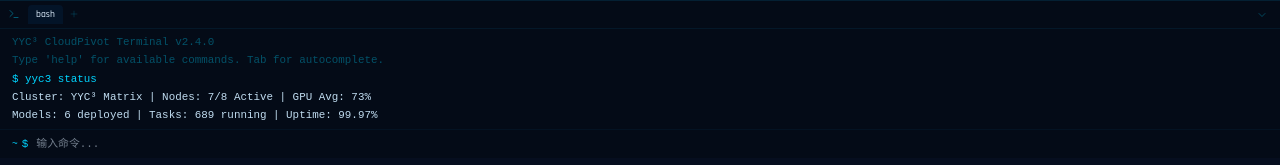
Test: IDETerminal › 多 tab: 新建 / 切换 / 关闭保护（最后一个不可关）
Click the button titled "新建终端" at (74, 14), box [67,8,81,22]
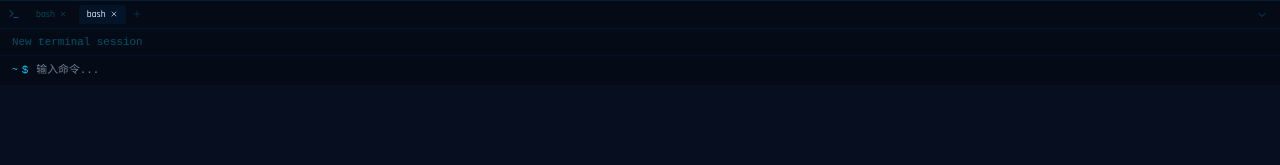
Expected: the element with id "ff3366" is shown, [59,10,67,18]
Expected: the text "New terminal session" is shown, [12,36,142,48]
Click the element with id "ff3366" at (114, 14), box [110,10,118,18]
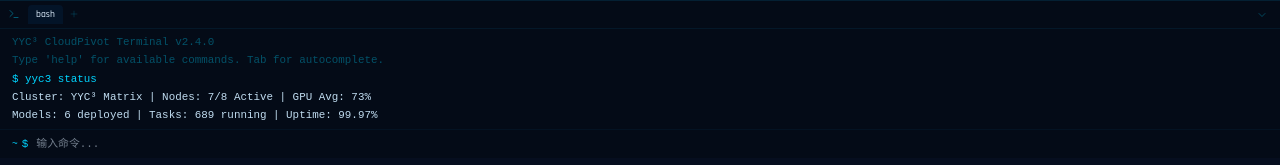
Expected: the text "YYC³ CloudPivot Terminal v2.4.0" is shown, [12,36,214,48]
